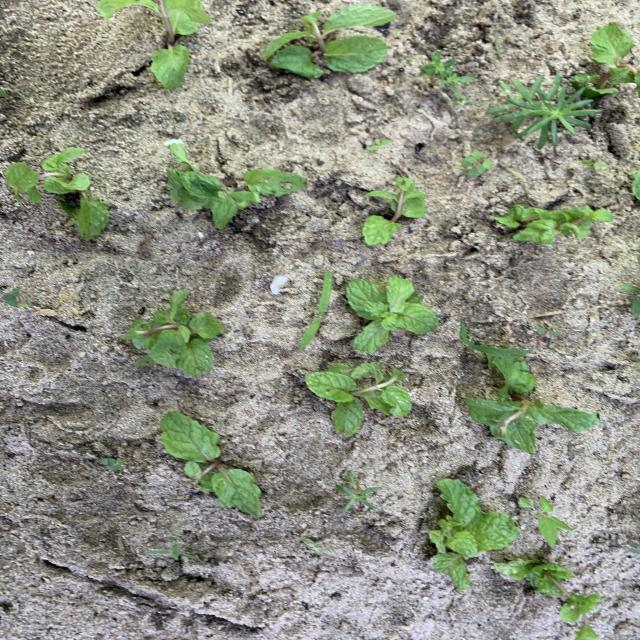crop: (465, 355, 599, 453), (168, 143, 305, 227), (160, 412, 260, 516), (429, 479, 519, 589), (97, 1, 209, 88), (5, 149, 109, 239), (265, 5, 394, 73), (120, 291, 223, 375), (306, 363, 411, 435), (346, 276, 439, 352), (495, 557, 599, 620), (492, 205, 612, 243), (364, 178, 425, 244), (593, 23, 639, 95), (577, 626, 598, 639)
weed: (486, 75, 598, 149), (421, 51, 476, 106), (518, 496, 571, 547), (460, 324, 533, 357), (300, 271, 331, 348), (337, 471, 380, 511), (4, 289, 39, 310), (462, 151, 491, 175), (619, 283, 639, 316), (160, 521, 187, 539), (581, 159, 607, 171), (100, 457, 123, 470), (367, 139, 390, 151), (535, 326, 559, 337)
